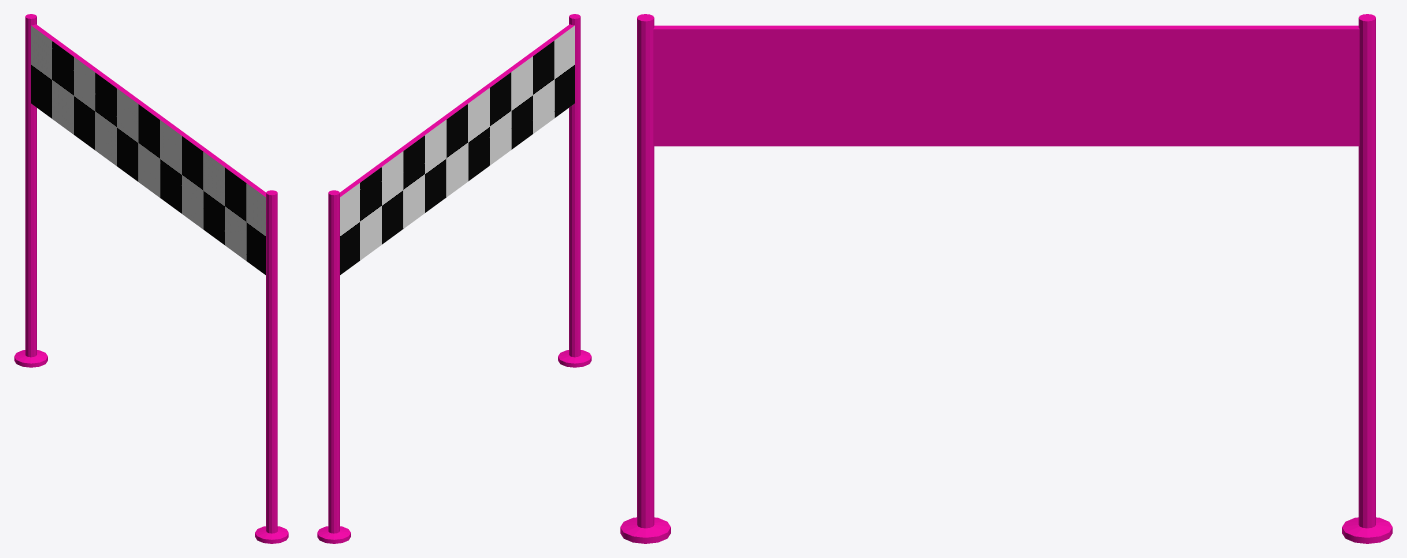
File: Finish_gate_01.FBX
3 views of the same model, side by side, from view 1: azimuth 30°, elevation 25°; view 2: azimuth 150°, elevation 25°; view 3: azimuth 270°, elevation 25° (orthographic). The views are drawn at different scales.
Visible parts, largest first — view 1: Cylinder002; view 2: Cylinder002; view 3: Cylinder002.
Boxes of the visible parts, bbox=[...] form: Cylinder002: bbox=[14, 14, 288, 543]; Cylinder002: bbox=[317, 14, 591, 543]; Cylinder002: bbox=[620, 14, 1392, 543].
Bounding box in the file's own units: 11.39 × 128 × 174.
